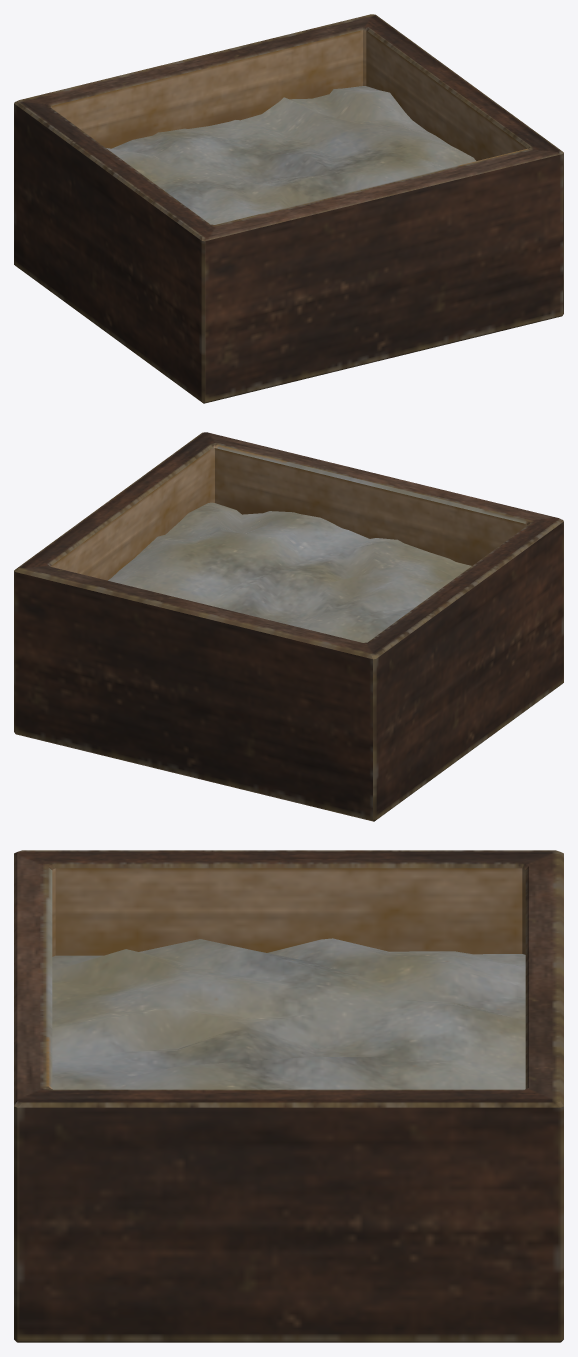
File: SM_Baduk03a.fbx
The picture shows the model from 3 angles, top to bottom: view 1: azimuth 30°, elevation 25°; view 2: azimuth 150°, elevation 25°; view 3: azimuth 270°, elevation 25°; orthographic projection. The views are drawn at different scales.
Parts seen in each view (by area): view 1: SM_Baduk03a; view 2: SM_Baduk03a; view 3: SM_Baduk03a.
Boxes of the visible parts, left/top/right/bottom form: SM_Baduk03a: left=14, top=14, right=563, bottom=403; SM_Baduk03a: left=14, top=432, right=563, bottom=821; SM_Baduk03a: left=14, top=850, right=563, bottom=1342.
Bounding box in the file's own units: 11 × 10 × 4.8.
Materials: 1 (1 with a texture image).
